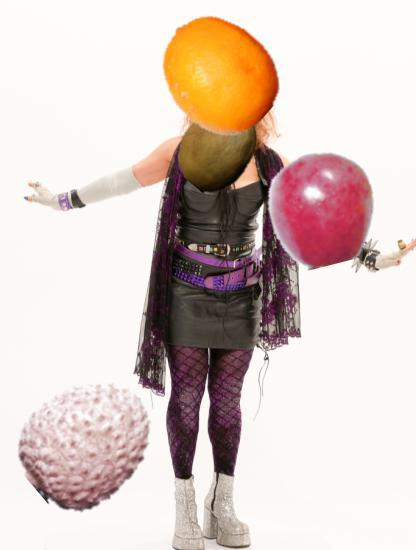Cherry: (267, 152, 381, 266)
Lemon: (156, 13, 281, 138)
Lychee: (18, 373, 157, 512)
Papaya: (173, 101, 266, 194)
